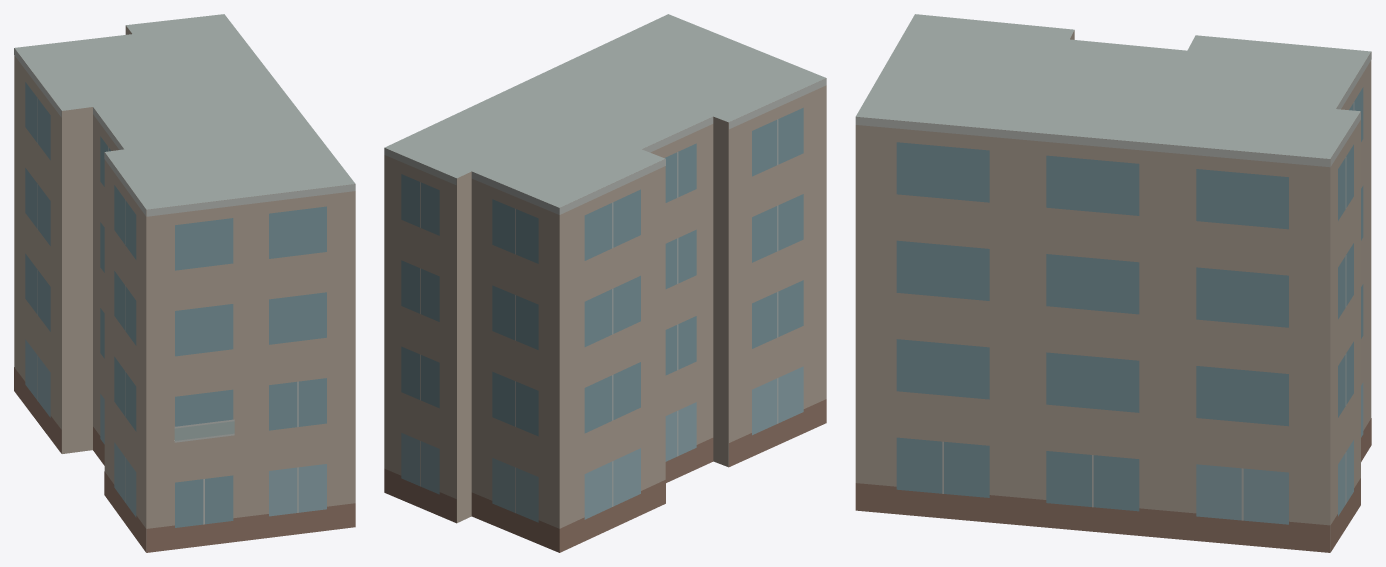
File: survey-upis-32974520.glb
3 views of the same model, side by side, from view 1: azimuth 30°, elevation 25°; view 2: azimuth 150°, elevation 25°; view 3: azimuth 270°, elevation 25° (orthographic). The views are drawn at different scales.
Parts seen in each view (by area): view 1: survey-upis-32974520.tmp; view 2: survey-upis-32974520.tmp; view 3: survey-upis-32974520.tmp.
Boxes of the visible parts, bbox=[...] form: survey-upis-32974520.tmp: bbox=[14, 14, 355, 552]; survey-upis-32974520.tmp: bbox=[384, 14, 826, 552]; survey-upis-32974520.tmp: bbox=[855, 14, 1371, 552].
Bounding box in the file's own units: 9.29 × 11.75 × 13.96.
